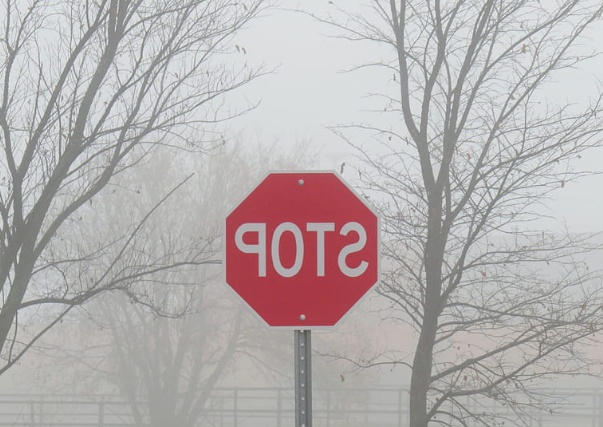Stop: (214, 168, 386, 335)
